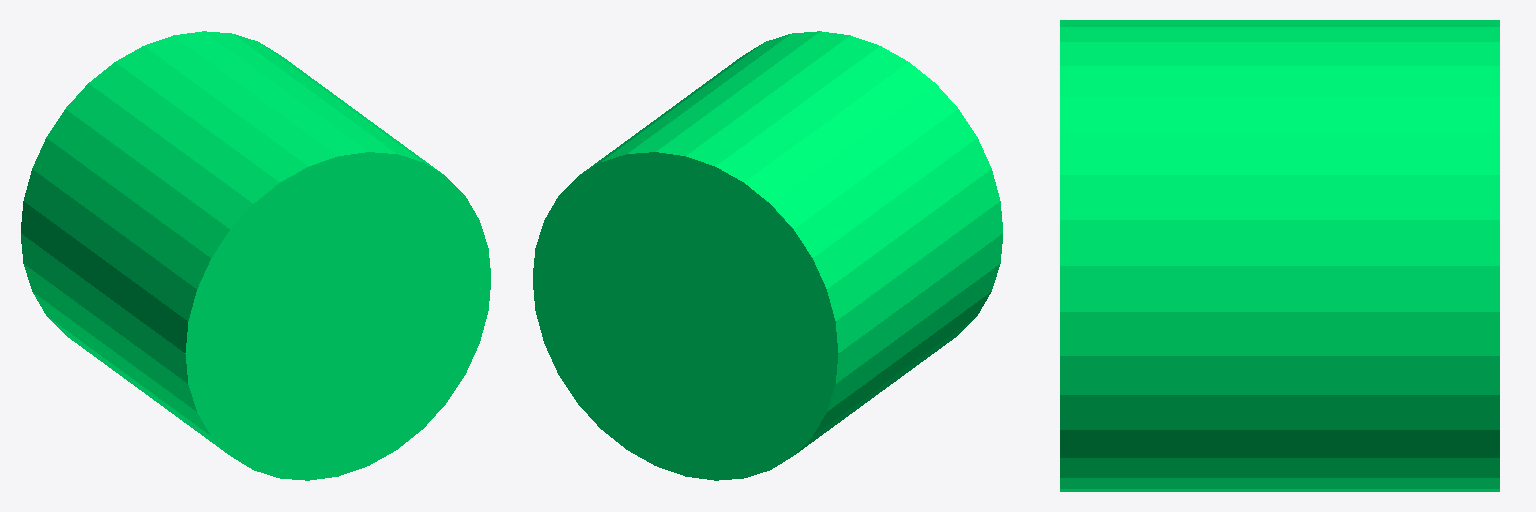
The robot description file, URDF, robot "myfirst":
<?xml version="1.0"?>
 <robot name="myfirst">
   <material name="light_green">
     <color rgba="0 1 0.498 1"/>
   </material>
   <link name="right_leg">
     <visual>
       <geometry>
         <cylinder length="0.08185500144958496" radius="0.043829689025878906"/>
       </geometry>
       <material name="light_green"/>
       <origin xyz="0 0 0" rpy="1.5707963 0 0"/>
     </visual>
     <inertial>
       <mass value="0"/>
       <inertia ixx="1.0" ixy="0.0" ixz="0.0" iyy="1.0" iyz="0.0" izz="1.0"/>
     </inertial>
   </link>
 </robot>

--- What the picture shows (computed from the rendered views, not written in the file) ---
Views: 3 orthographic renders of the robot side by side, from view 1: azimuth 30°, elevation 25°; view 2: azimuth 150°, elevation 25°; view 3: azimuth 270°, elevation 25°.
Robot: myfirst — 1 links, 0 joints (none); root link right_leg; default pose: every joint at zero.
Links seen in each view (by area): view 1: right_leg; view 2: right_leg; view 3: right_leg.
Boxes of the visible links, x1,y1,x2,y2 form: right_leg: [21, 31, 490, 480]; right_leg: [533, 31, 1002, 480]; right_leg: [1060, 20, 1499, 491].
Size in the robot's own frame: 0.0877 by 0.0819 by 0.0877 metres.
Geometry: primitives only (box / cylinder / sphere), no mesh files.
